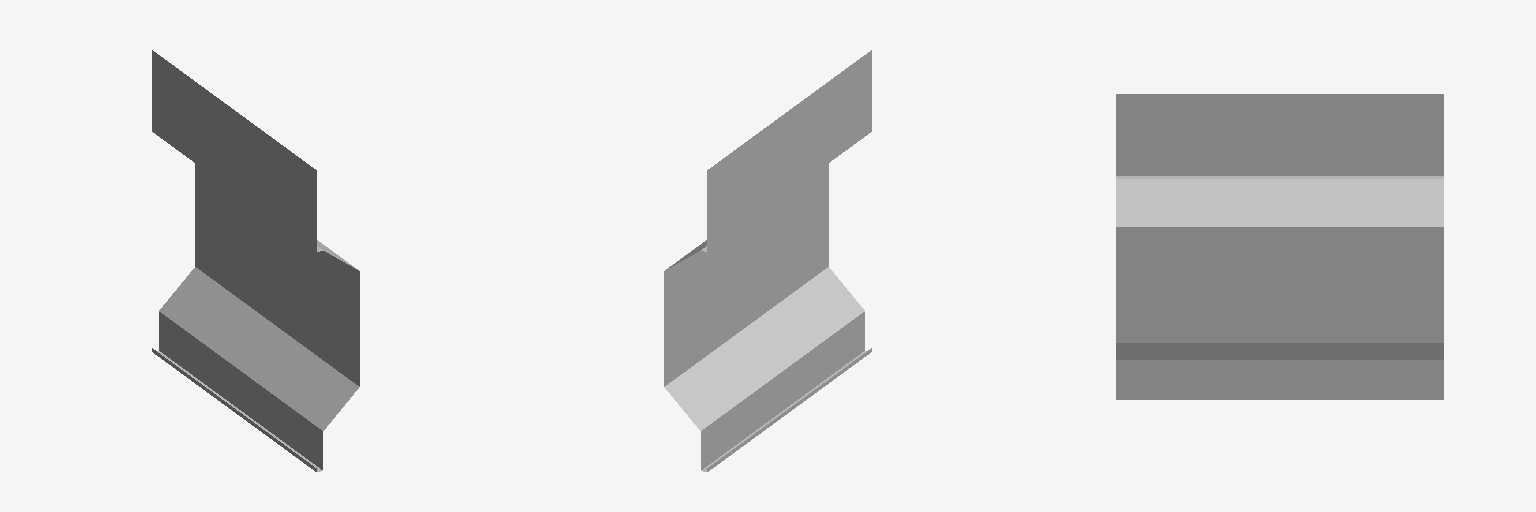
File: greybox_wall_interior_01.obj
The picture shows the model from 3 angles: view 1: azimuth 30°, elevation 25°; view 2: azimuth 150°, elevation 25°; view 3: azimuth 270°, elevation 25°; orthographic projection.
Visible parts, largest first — view 1: pCube1; view 2: pCube1; view 3: pCube1.
Part boxes in pixels (x1,y1,x2,y2): pCube1: (152,50,359,471); pCube1: (664,50,871,471); pCube1: (1116,94,1443,399).
Size of the model in its own units: 0.6035 by 4.05 by 4.